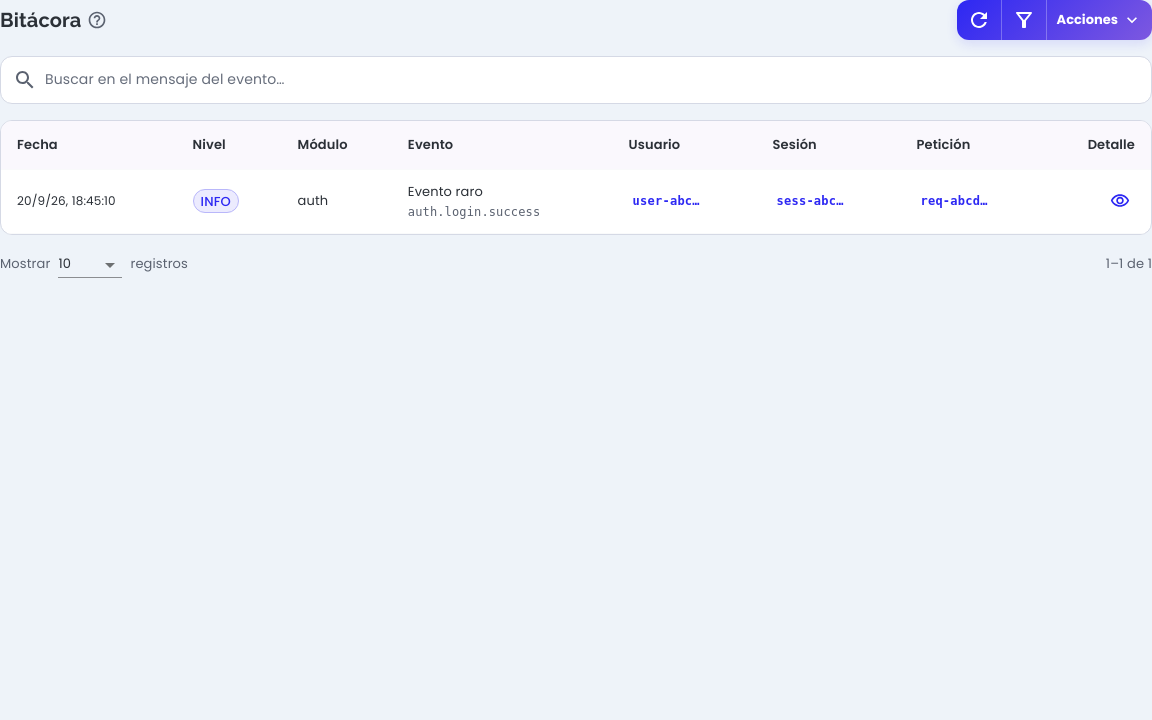
Test: <LogsPage /> › el detalle muestra los datos del evento como texto (aunque traigan HTML)
Expected: the row "Evento raro" is shown, top-left (1, 170), bottom-right (1151, 233)
Click the button named "Ver detalle de auth.login.success": point(1120, 200) top-left (1105, 186), bottom-right (1135, 216)
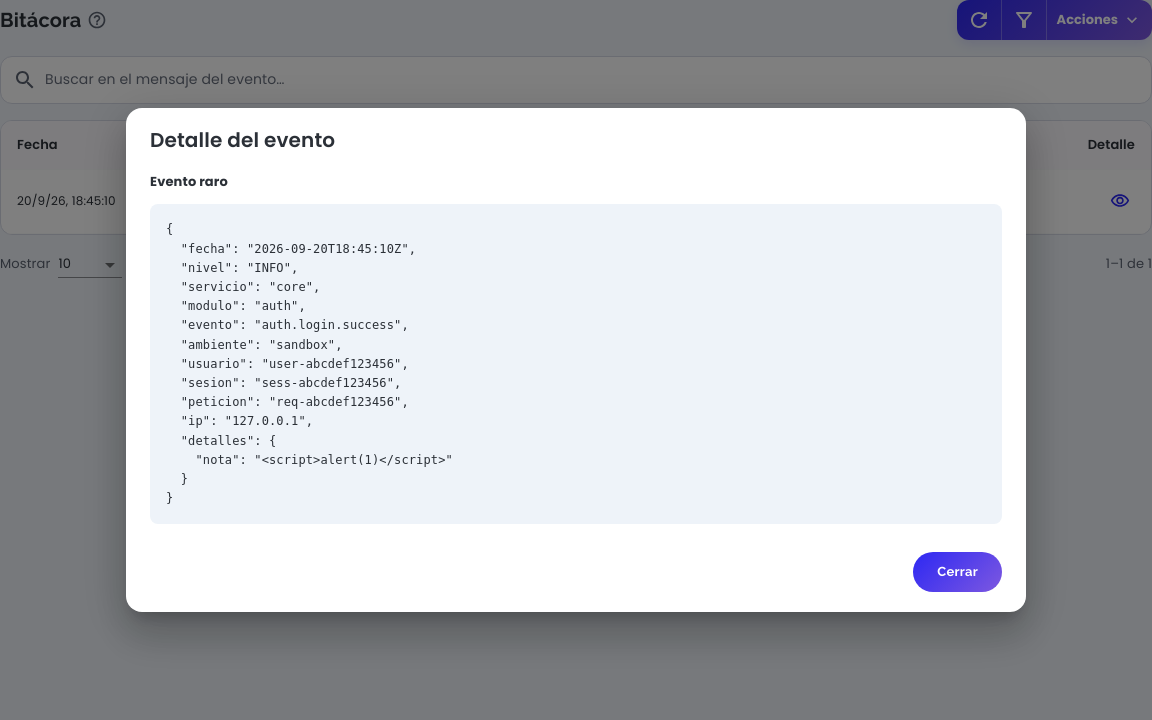
Expected: the text named "Datos del evento en formato JSON" shows "<script>alert(1)</script>", top-left (166, 222), bottom-right (453, 505)
Expected: the text named "Datos del evento en formato JSON" shows "\"modulo\": \"auth\"", top-left (166, 222), bottom-right (453, 505)
Click the button "Cerrar": point(958, 572) top-left (913, 552), bottom-right (1002, 592)
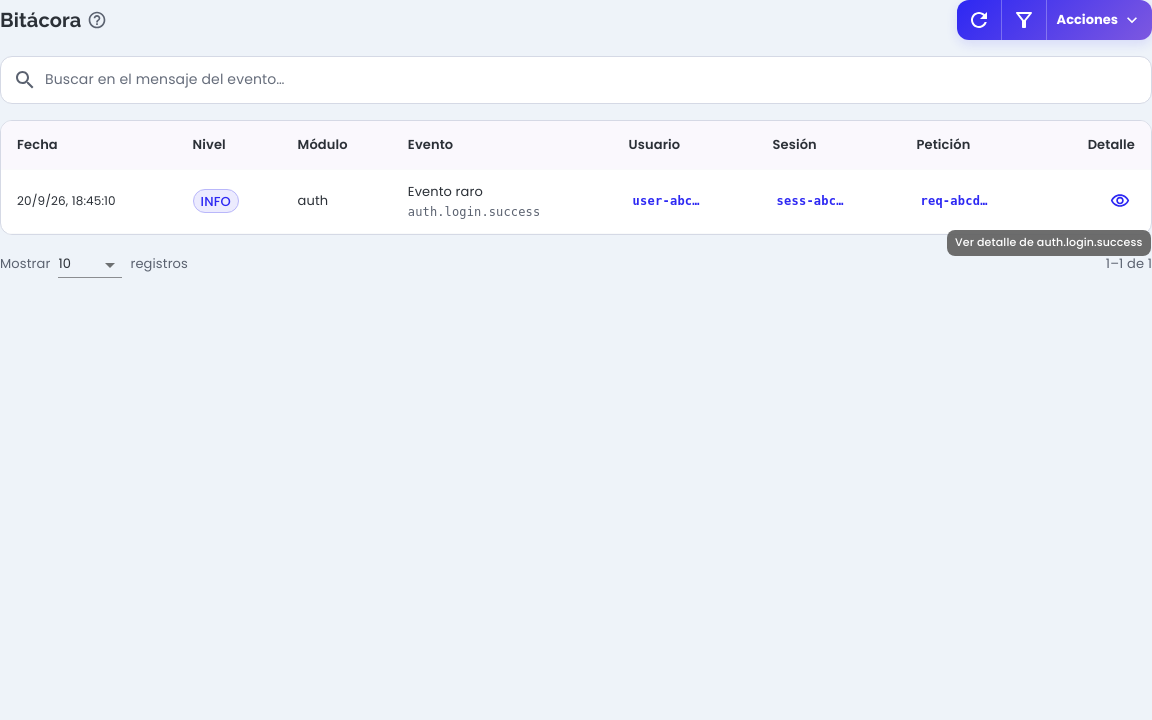
Expected: the dialog is gone
